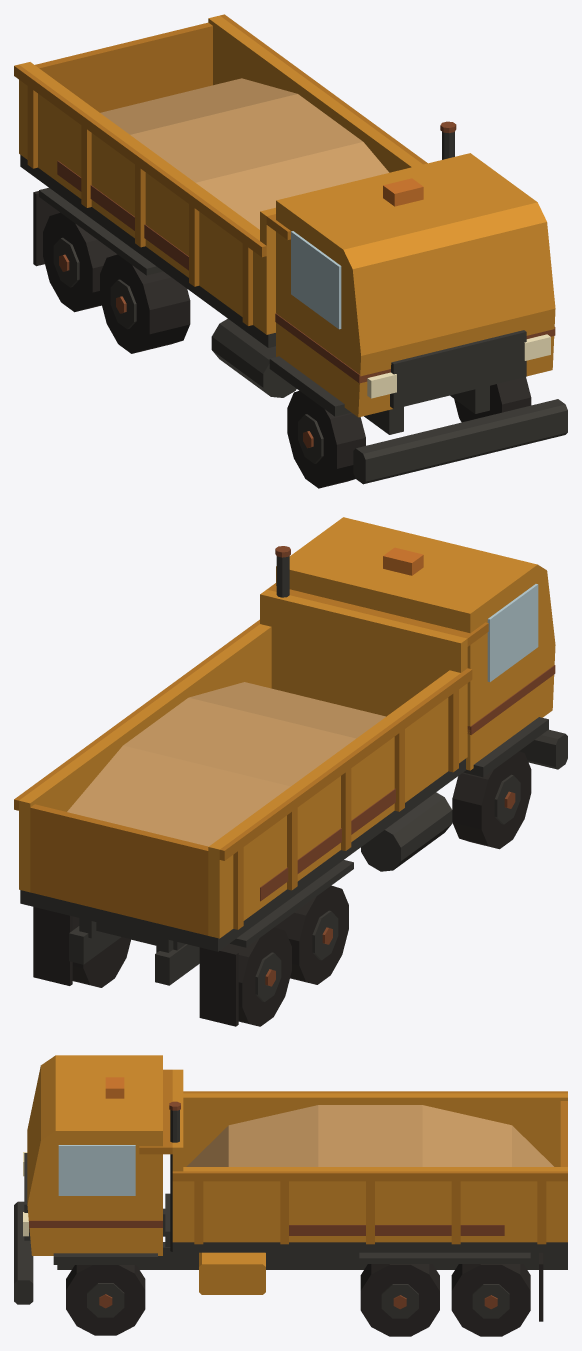
Rendered from DumpTruck.glb.
The picture shows the model from 3 angles, top to bottom: view 1: azimuth 30°, elevation 25°; view 2: azimuth 150°, elevation 25°; view 3: azimuth 270°, elevation 25°; orthographic projection. The views are drawn at different scales.
Visible parts, largest first — view 1: Body, Bed, BedFill, WheelR1_R, WheelF_R, WheelR2_R, WheelF_L; view 2: Bed, Body, BedFill, WheelF_R, WheelR1_R, WheelR2_R, WheelR2_L; view 3: Bed, Body, BedFill, WheelR2_L, WheelR1_L, WheelF_L.
Part boxes in pixels (box(x1,y1,x2,y2)): Body: box(33, 121, 567, 484); Bed: box(14, 14, 427, 347); BedFill: box(100, 78, 389, 229); WheelR1_R: box(100, 254, 190, 353); WheelF_R: box(287, 390, 365, 488); WheelR2_R: box(43, 212, 117, 312); WheelF_L: box(454, 377, 531, 422); Bed: box(14, 583, 488, 951); Body: box(33, 517, 567, 1026); BedFill: box(67, 682, 385, 846); WheelF_R: box(452, 751, 531, 849); WheelR1_R: box(275, 885, 348, 984); WheelR2_R: box(223, 927, 291, 1026); WheelR2_L: box(72, 916, 131, 987); Bed: box(139, 1069, 567, 1252); Body: box(14, 1055, 567, 1321); BedFill: box(186, 1105, 553, 1166); WheelR2_L: box(451, 1264, 530, 1336); WheelR1_L: box(360, 1264, 439, 1336); WheelF_L: box(66, 1265, 145, 1335).
Bounding box in the file's own units: 2.64 × 3.34 × 7.43.
